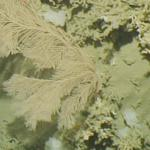alive: (1, 2, 147, 147)
